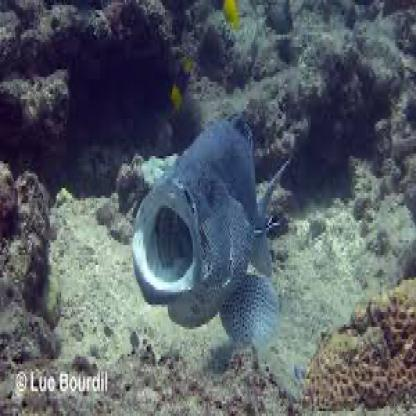Serranidae -Groupers-: (127, 108, 292, 355)
